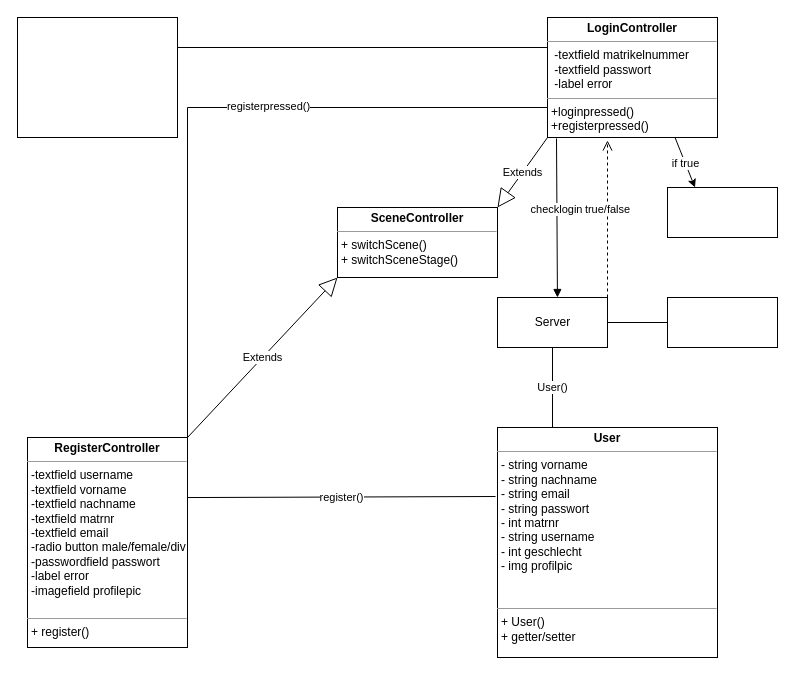
The diagram is 795 pixels wide and 675 high, and some of its shapes have lost their labels. Each missing label, with the centre of its shape:
"Datenbank" goes at (722,322).
"MainApp - Stage current - User currentUser + start() + main() + getter/setter" goes at (97,77).
"MainpageController" goes at (722,212).
